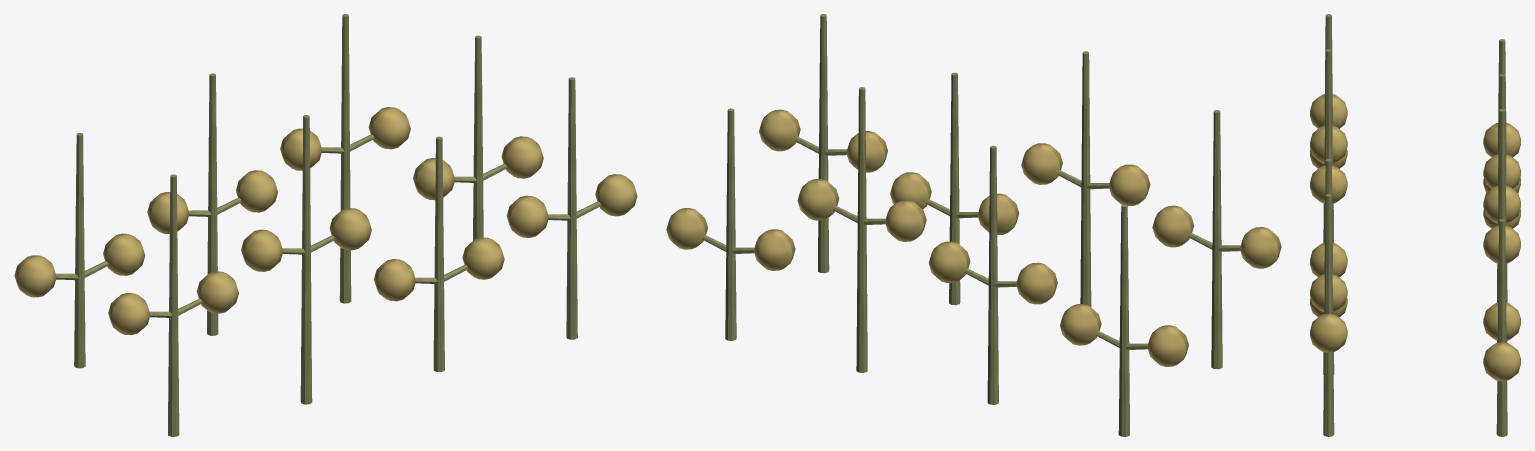
File: bladderwort_tangle_swamp_and_mangrove_22635.glb
3 views of the same model, side by side, from view 1: azimuth 30°, elevation 25°; view 2: azimuth 150°, elevation 25°; view 3: azimuth 270°, elevation 25° (orthographic). The views are drawn at different scales.
Visible parts, largest first — view 1: bladderwort; view 2: bladderwort; view 3: bladderwort.
Part boxes in pixels (<box>): bladderwort: <box>14,14,637,436</box>; bladderwort: <box>666,14,1281,436</box>; bladderwort: <box>1310,14,1520,436</box>.
Bounding box in the file's own units: 0.71 × 0.37 × 0.2676.
Materials: 2 (2 with a texture image).
